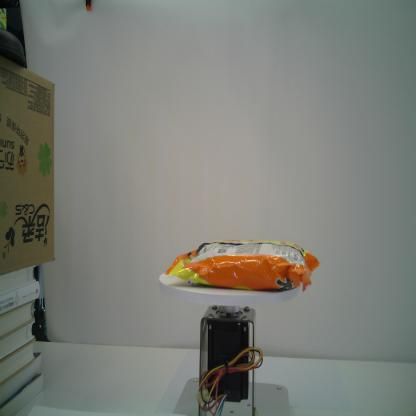Instant Noodles: (164, 239, 321, 292)
